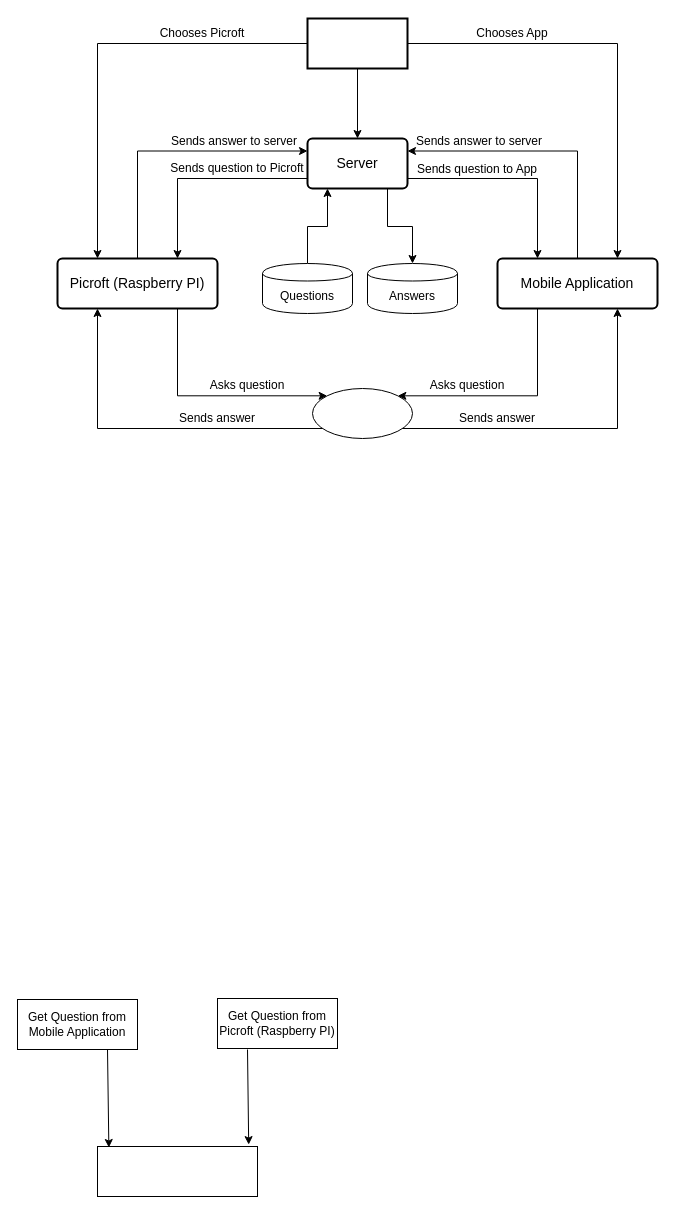
This 676x1214 diagram has some shape labels left out. The shapes that lost their labels are listed below. From the top down, each one's centre as x and y in pixels, then its label:
At point (357, 43): "Daisy A.I.".
At point (362, 413): "User".
At point (177, 1171): "Answer Question".
